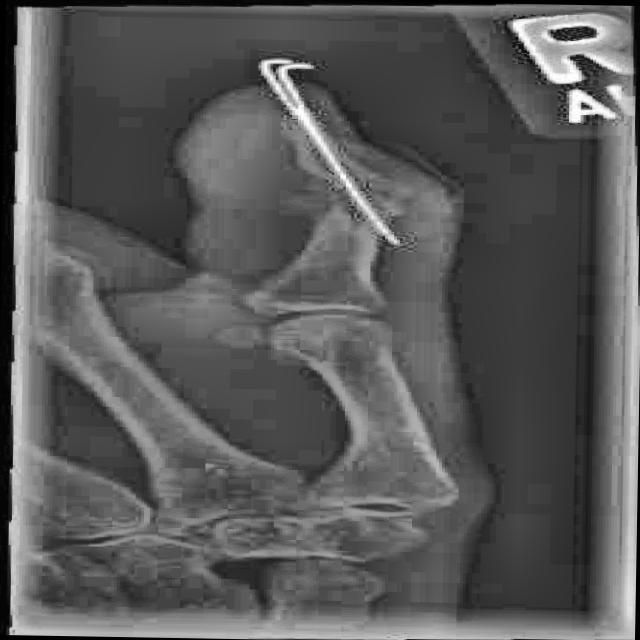fingers positive: (270, 165, 439, 252)
